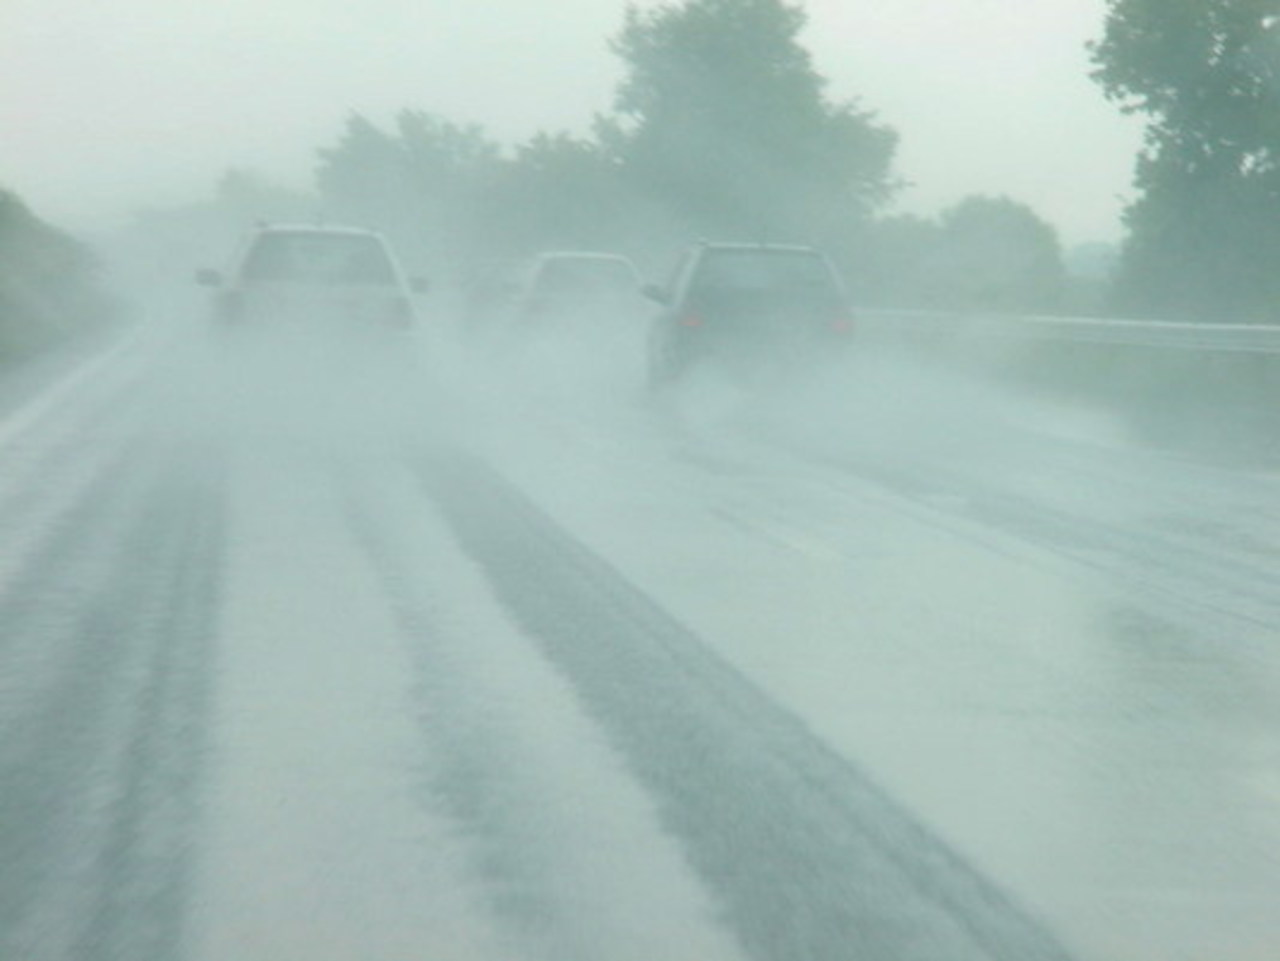car: (190, 220, 438, 386), (648, 244, 858, 394), (499, 246, 653, 365)
